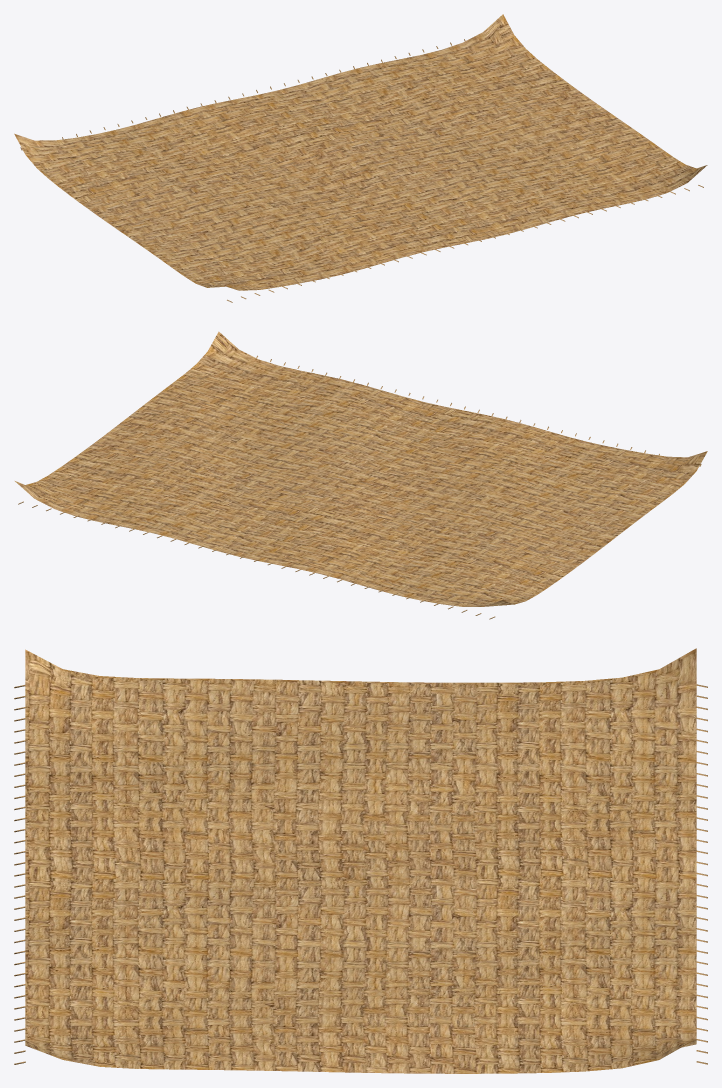
The model's file is prop_pati.glb.
3 renders of one model, top to bottom at view 1: azimuth 30°, elevation 25°; view 2: azimuth 150°, elevation 25°; view 3: azimuth 270°, elevation 25°, orthographic. The views are drawn at different scales.
Visible parts, largest first — view 1: prop_pati; view 2: prop_pati; view 3: prop_pati.
Boxes of the visible parts, <box> form: prop_pati: <box>14,14,707,302</box>; prop_pati: <box>15,331,707,619</box>; prop_pati: <box>14,648,707,1073</box>.
Size of the model in its own units: 1.2 by 0.05 by 0.9.
1 material, 1 textured.
